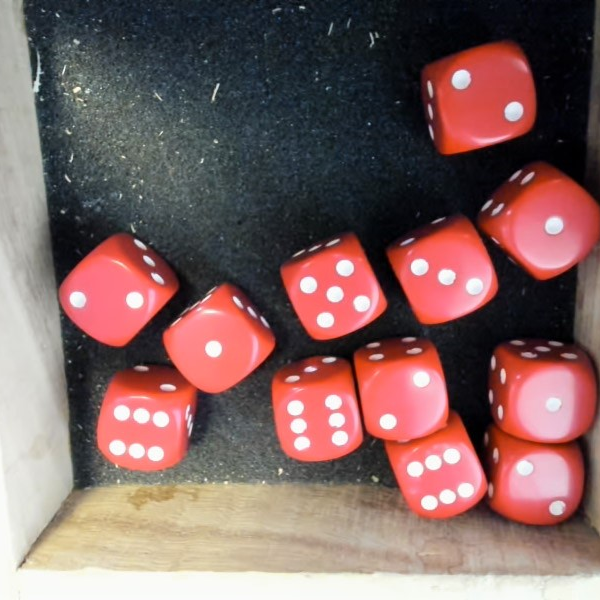red_die_pip1: (150, 272, 287, 409), (475, 158, 600, 285), (492, 337, 597, 442)
red_die_pip2: (50, 218, 185, 355), (410, 39, 543, 164), (353, 326, 458, 443), (487, 440, 587, 527)
red_die_pip3: (379, 201, 508, 335)
red_die_pip5: (269, 216, 393, 346)
red_die_pip6: (378, 408, 496, 530), (261, 350, 369, 468), (94, 357, 199, 475)
